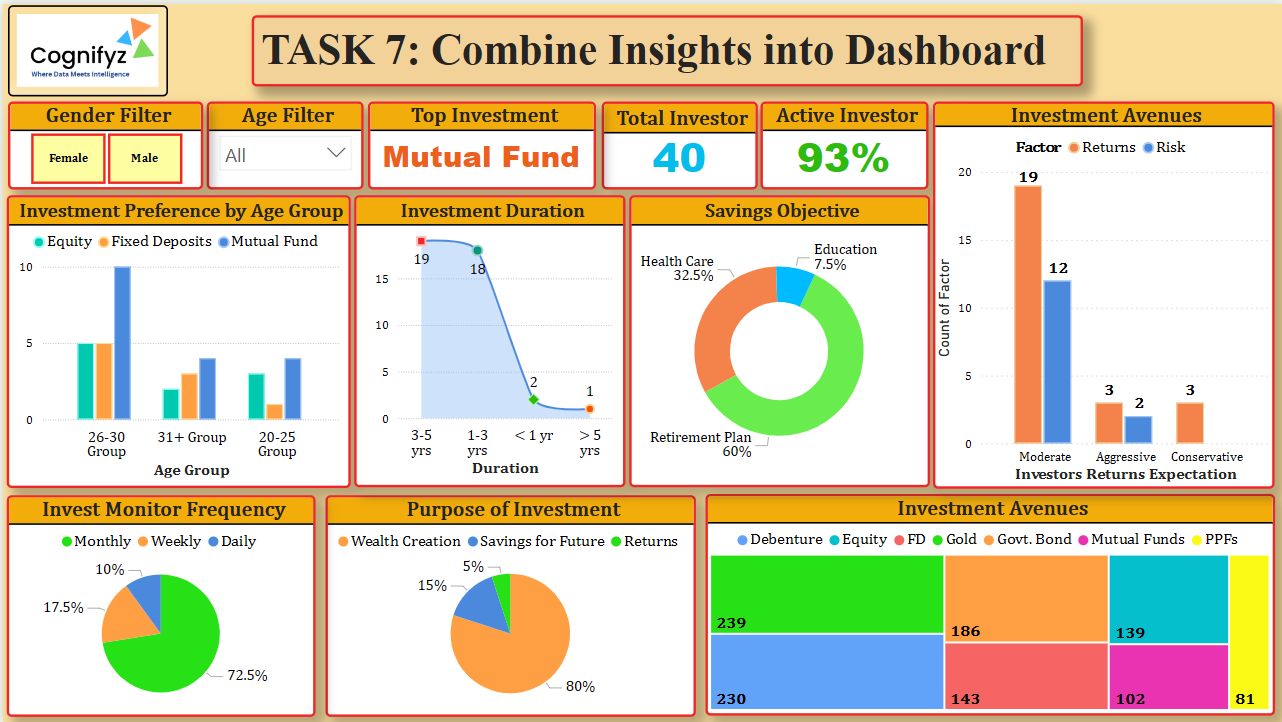

This screenshot's page, from the dashboard's own definition file:
{"tool":"powerbi","page":{"name":"Task 7","canvas":[1280,720],"ordinal":13},"visuals":[{"type":"image","box":[5,1.2,160,91],"z":0},{"type":"textbox","box":[248.8,11.2,831.2,71.2],"z":1000},{"type":"card","title":"Total Investor","fields":{"Values":["CountNonNull(Data_set 2.gender)"]},"box":[744.4,97.7,179.8,88.1],"z":2000},{"type":"slicer","title":"Age Filter","fields":{"Values":["Data_set 2.age"]},"box":[207.5,97.7,142.4,88.1],"z":3000},{"type":"slicer","title":"Gender Filter","fields":{"Values":["Data_set 2.gender"]},"box":[4.8,97.7,195.4,88.1],"z":4000},{"type":"clusteredColumnChart","title":"Investment Preference by Age Group","fields":{"Series":["Data_set 2.Avenue"],"Category":["Data_set 2.Age Group"],"Y":["CountNonNull(Data_set 2.Avenue)"]},"box":[3.6,191.8,343.8,293.2],"z":5000},{"type":"pieChart","title":"Purpose of Investment","fields":{"Category":["Data_set 2.Purpose"],"Y":["CountNonNull(Data_set 2.Purpose)"]},"box":[322.1,491,370.4,222],"z":6000},{"type":"lineChart","title":"Investment Duration","fields":{"Category":["Data_set 2.Duration"],"Y":["CountNonNull(Data_set 2.Duration)"]},"box":[351.1,191.8,271.4,292],"z":7000},{"type":"pieChart","title":"Invest Monitor Frequency","fields":{"Category":["Data_set 2.Invest_Monitor"],"Y":["CountNonNull(Data_set 2.Invest_Monitor)"]},"box":[3.4,491,308.8,222],"z":8000},{"type":"treemap","title":"Investment Avenues","fields":{"Values":["Data_set 2.Debenture","Data_set 2.Equity Market","Data_set 2.Fixed Deposits","Data_set 2.Gold","Data_set 2.Government Bond","Data_set 2.Mutual Funds","Data_set 2.PPFs"]},"box":[702.6,491.3,569.5,220.9],"z":9000},{"type":"donutChart","title":"Savings Objective","fields":{"Category":["Data_set 2.What are your savings objectives?"],"Y":["CountNonNull(Data_set 2.What are your savings objectives?)"]},"box":[626.1,191.8,300.4,292],"z":10000},{"type":"clusteredColumnChart","title":"Investment Avenues","fields":{"Category":["Data_set 2.Investors Returns Expectation"],"Y":["CountNonNull(Data_set 2.Factor)"],"Series":["Data_set 2.Factor"]},"box":[930.2,97.7,341.4,387.3],"z":11000},{"type":"slicer","title":"Source","fields":{"Values":["Data_set 2.Source"]},"box":[355.9,97.7,158,88.1],"z":12000},{"type":"slicer","title":"Avenue","fields":{"Values":["Data_set 2.Avenue"]},"box":[520,97.7,219.6,88.1],"z":13000}]}

Visuals, with their boxes in screenshot pixels (x1, y1, x2, y2), scaled from the page's 1280x720 canvas onto the 1282x722 screenshot:
image: <box>5,1,165,92</box>
textbox: <box>249,11,1082,83</box>
"Total Investor" card: <box>746,98,926,186</box>
"Age Filter" slicer: <box>208,98,350,186</box>
"Gender Filter" slicer: <box>5,98,201,186</box>
"Investment Preference by Age Group" clusteredColumnChart: <box>4,192,348,486</box>
"Purpose of Investment" pieChart: <box>323,492,694,715</box>
"Investment Duration" lineChart: <box>352,192,623,485</box>
"Invest Monitor Frequency" pieChart: <box>3,492,313,715</box>
"Investment Avenues" treemap: <box>704,493,1274,714</box>
"Savings Objective" donutChart: <box>627,192,928,485</box>
"Investment Avenues" clusteredColumnChart: <box>932,98,1274,486</box>
"Source" slicer: <box>356,98,515,186</box>
"Avenue" slicer: <box>521,98,741,186</box>
